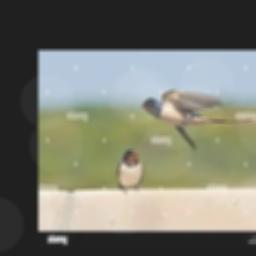Swallow: (141, 90, 256, 151), (117, 149, 144, 193)
